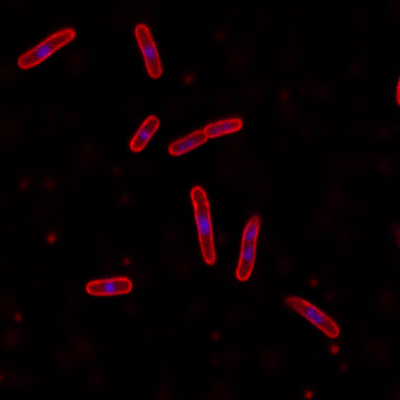Nalidixate: (167, 117, 243, 157), (17, 27, 75, 70), (189, 184, 217, 267), (133, 24, 163, 79), (129, 115, 161, 153), (85, 277, 133, 297)
Oblique: (284, 295, 340, 339), (233, 212, 261, 283)
Vesicle: (13, 312, 24, 324), (46, 232, 57, 244), (183, 73, 195, 84), (330, 344, 340, 355), (305, 390, 314, 400), (120, 256, 130, 265), (310, 276, 318, 286)
